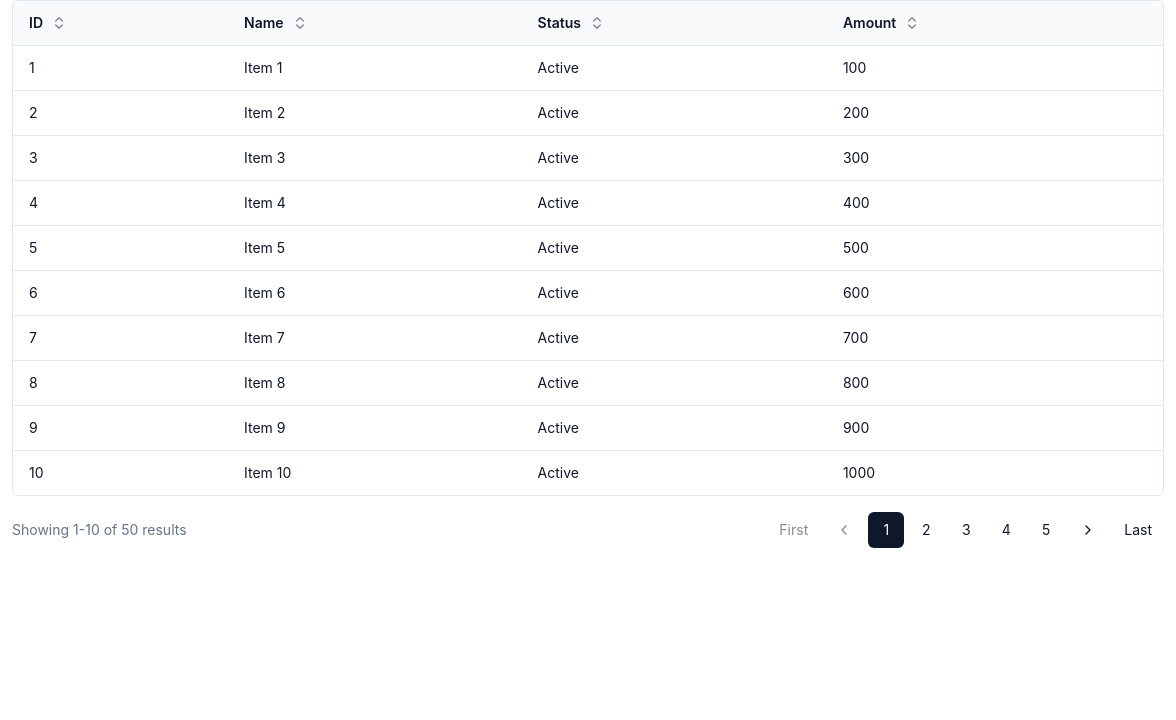
Test: DataTable › changes page when pagination is clicked
Expected: the text "Item 1" is shown, 228,46 -> 522,90
Expected: the text "Item 11" is not shown
Click the button named "Go to next page" at (1088, 530), box 1068,512 -> 1108,548
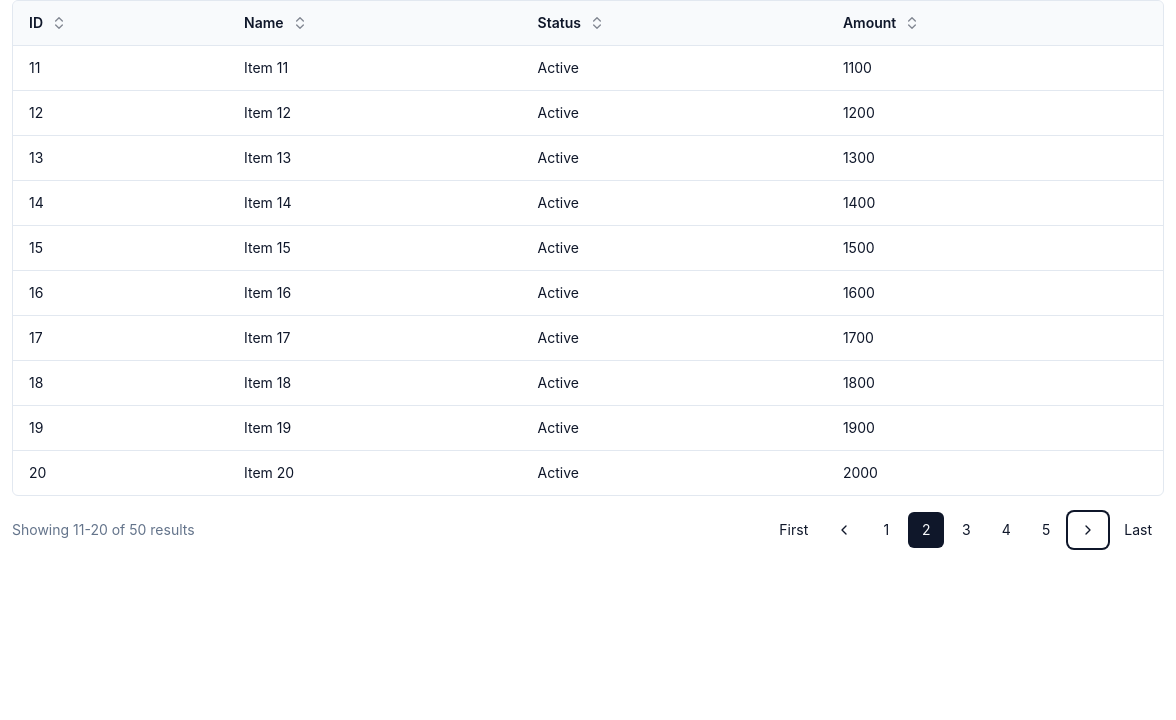
Expected: the text "Item 11" is shown, 228,46 -> 522,90
